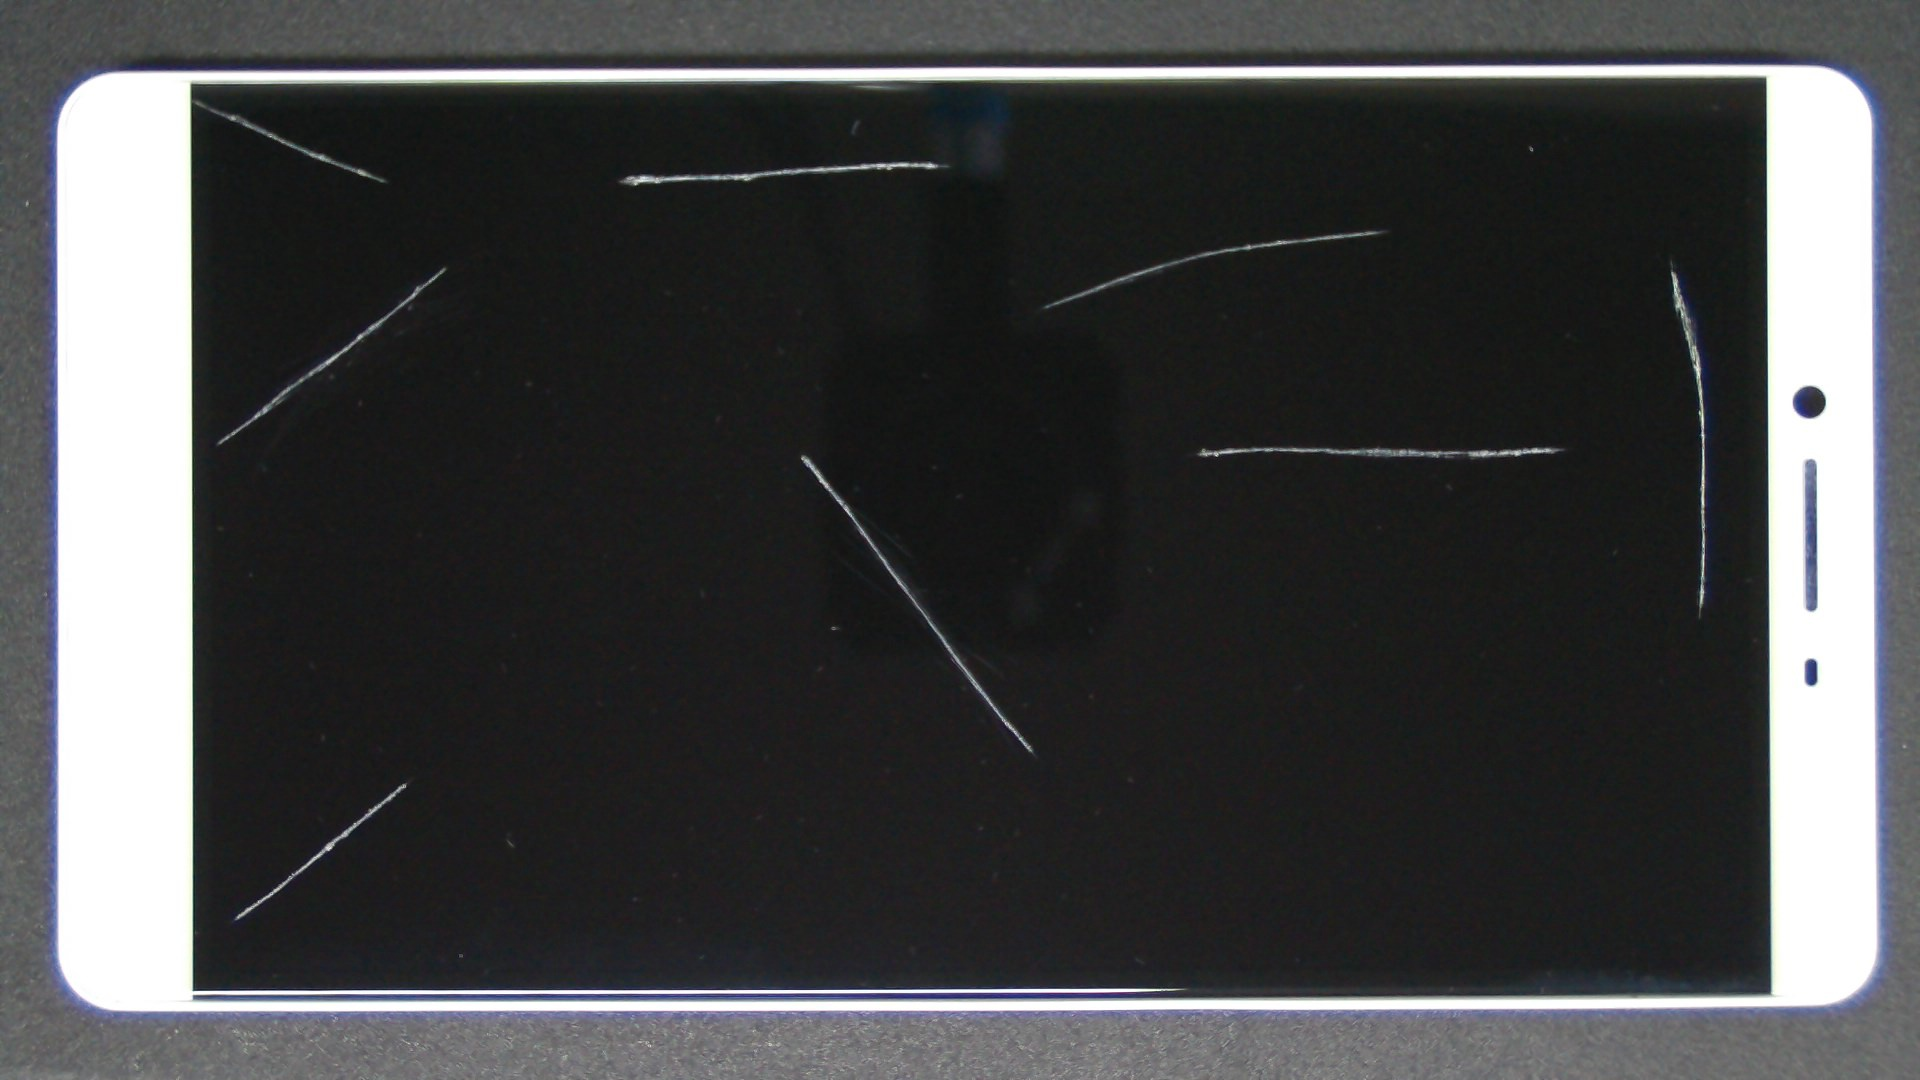oil: (775, 222, 1920, 669), (401, 225, 1200, 679), (695, 113, 1920, 344), (836, 128, 1920, 388), (204, 390, 612, 1080), (465, 79, 1393, 240), (223, 132, 666, 398), (96, 47, 290, 148)
